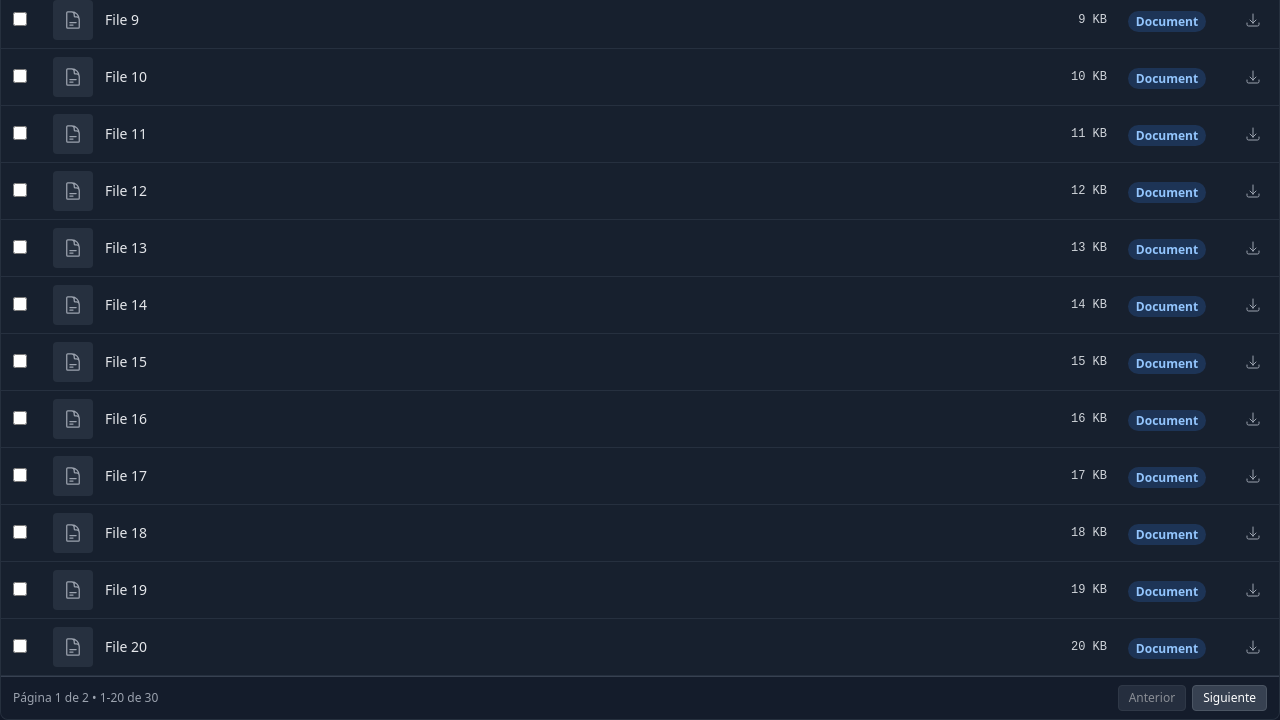
Test case: FileList › Pagination › should navigate to next page
(page scrolled)
Step 1. Click the button "Siguiente" → (1230, 698), box [1192,685,1267,711]
(page scrolled)
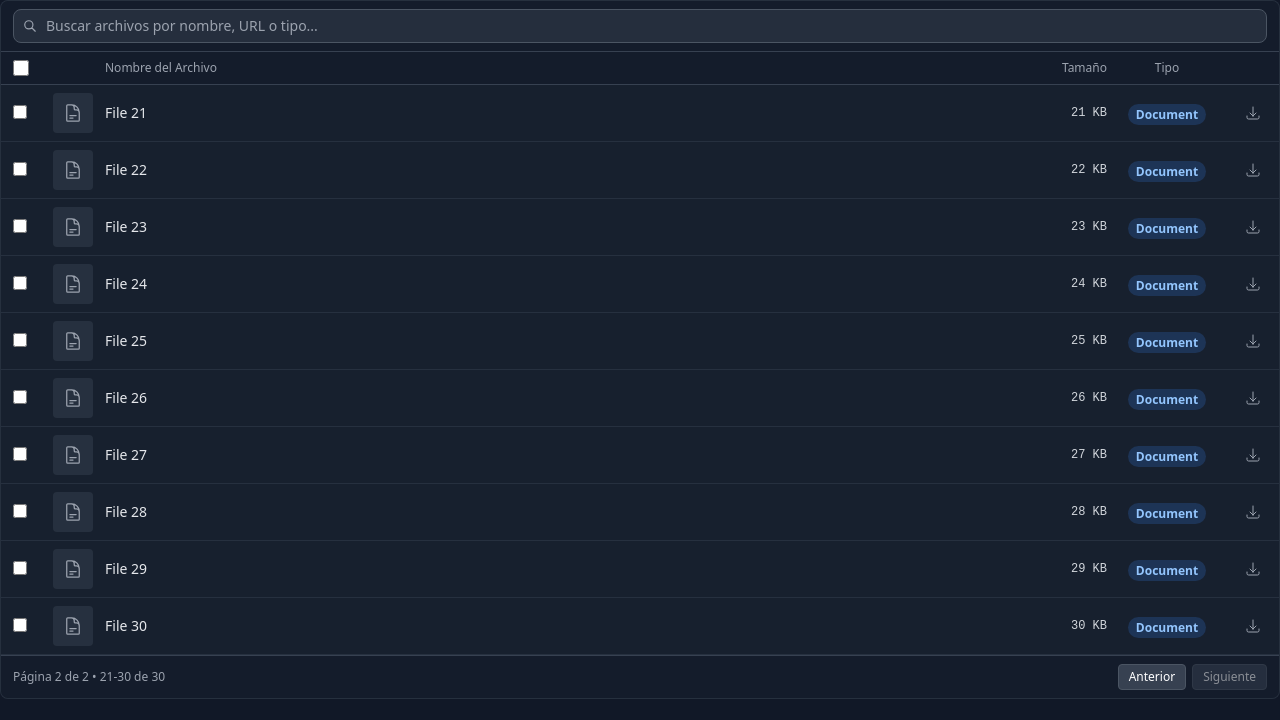
Expected: the text "Página 2 de 2 • 21-30 de 30" is shown, [13,669,165,685]
